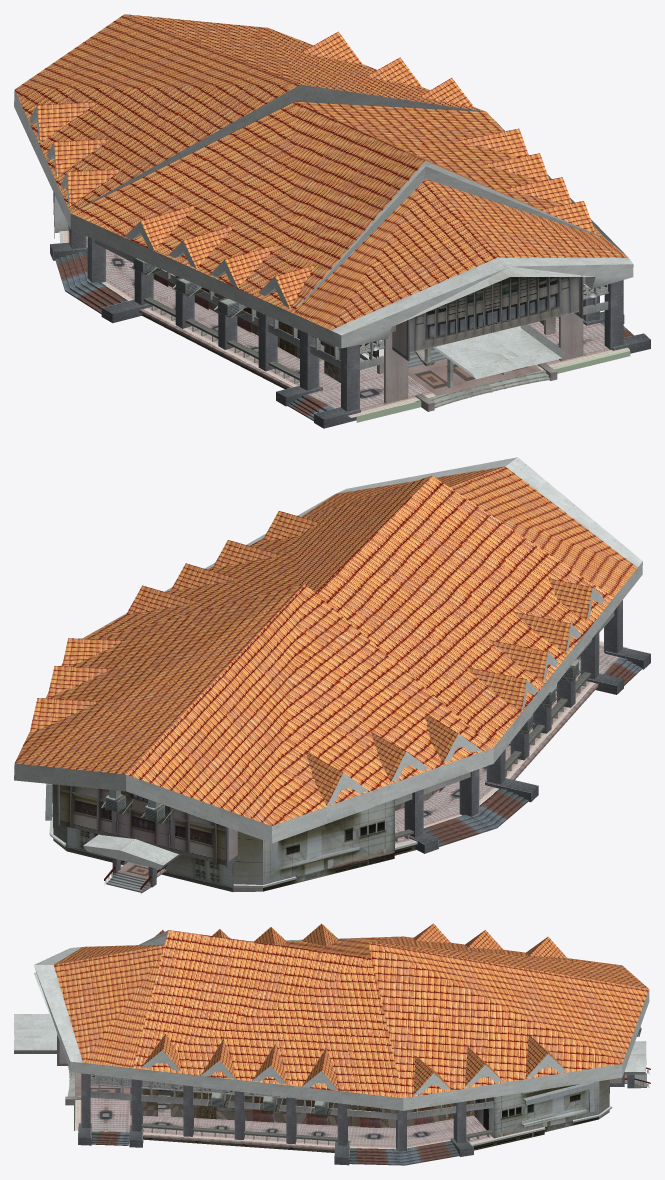
File: assemblyHall.glb
3 views of the same model, one above another, from view 1: azimuth 30°, elevation 25°; view 2: azimuth 150°, elevation 25°; view 3: azimuth 270°, elevation 25° (orthographic). The views are drawn at different scales.
Parts seen in each view (by area): view 1: assemblyHall; view 2: assemblyHall; view 3: assemblyHall.
Part boxes in pixels (left/top/right/bottom): assemblyHall: left=14, top=14, right=650, bottom=428; assemblyHall: left=14, top=457, right=650, bottom=893; assemblyHall: left=14, top=923, right=650, bottom=1165.
Bounding box in the file's own units: 79.21 × 32.99 × 126.
7 materials, 5 textured.
